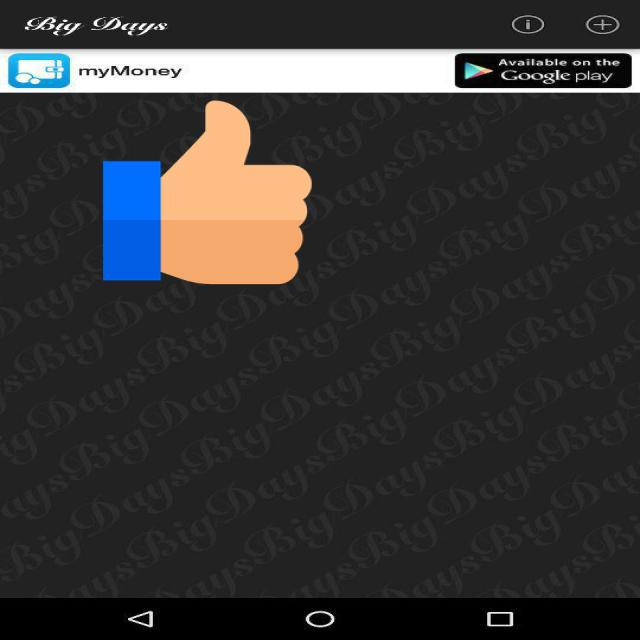privacy zuckering: (103, 96, 312, 289)
